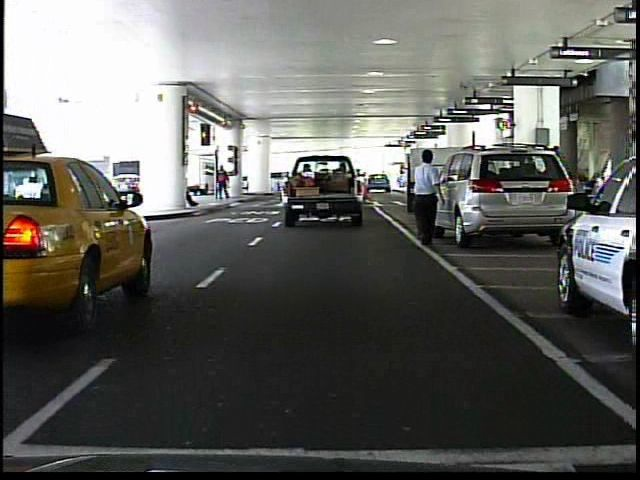person: (404, 145, 450, 247), (214, 163, 235, 203)
